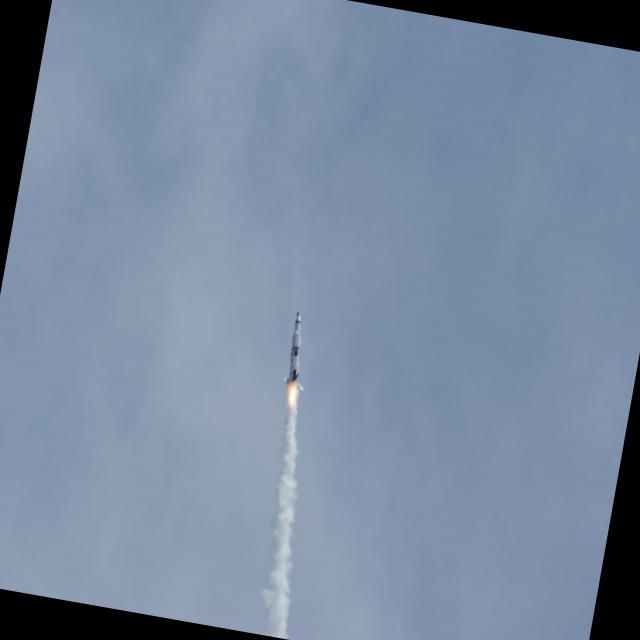rocket: (259, 308, 324, 486)
